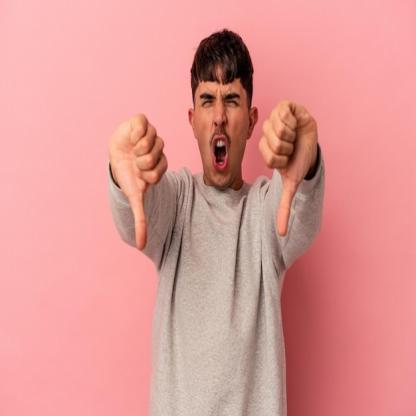thumb_down: (256, 94, 320, 239), (107, 110, 169, 252)
